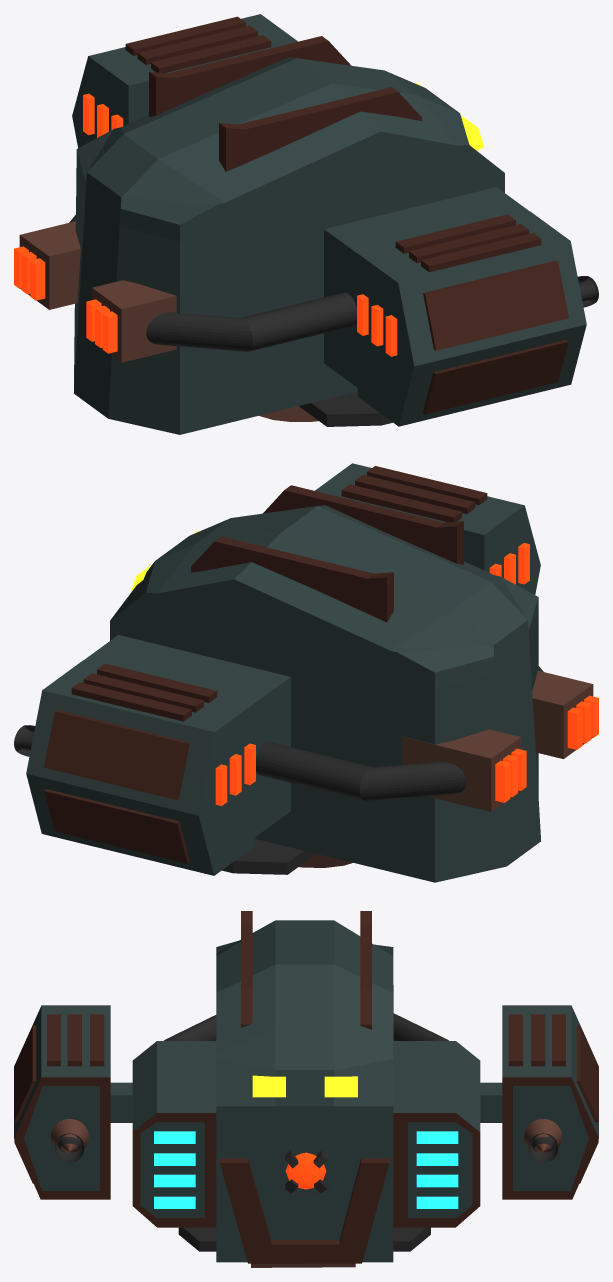
File: Gegner6.fbx
3 views of the same model, one above another, from view 1: azimuth 30°, elevation 25°; view 2: azimuth 150°, elevation 25°; view 3: azimuth 270°, elevation 25° (orthographic). The views are drawn at different scales.
Visible parts, largest first — view 1: Cube.003; view 2: Cube.003; view 3: Cube.003.
Boxes of the visible parts, <box> form: Cube.003: <box>14,14,598,434</box>; Cube.003: <box>14,463,598,882</box>; Cube.003: <box>14,911,598,1267</box>.
Size of the model in its own units: 166 by 127 by 242.
